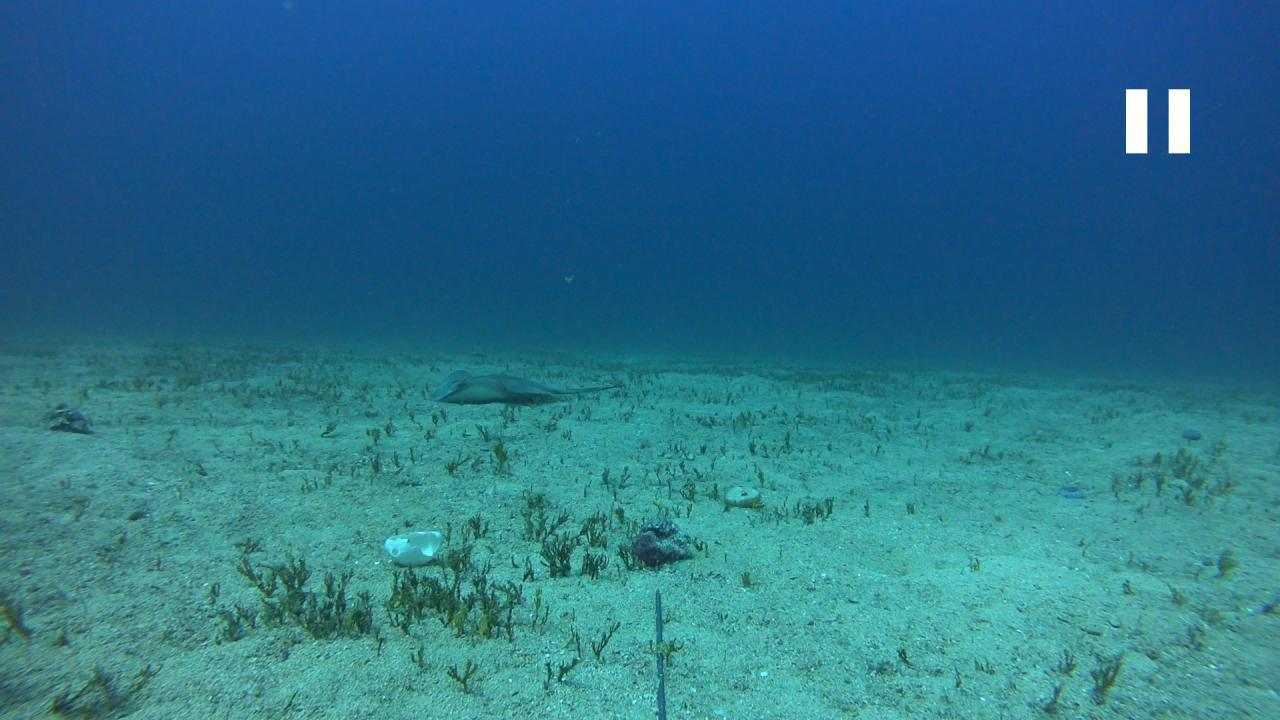dasyatis: (430, 368, 626, 400)
